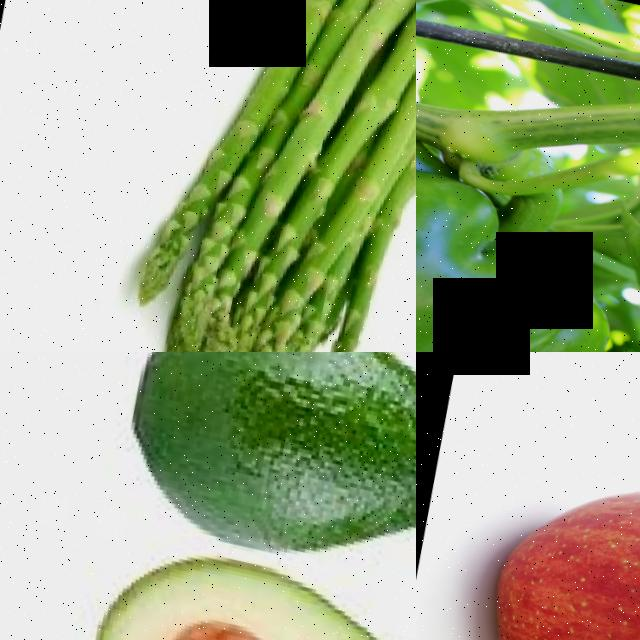apple: (446, 429, 640, 640)
asparagus: (160, 157, 251, 337), (132, 124, 213, 315), (214, 169, 292, 300), (235, 207, 314, 334), (286, 263, 397, 352)
avocado: (60, 352, 416, 596), (51, 523, 416, 640)
bell pepper: (416, 37, 640, 352)
